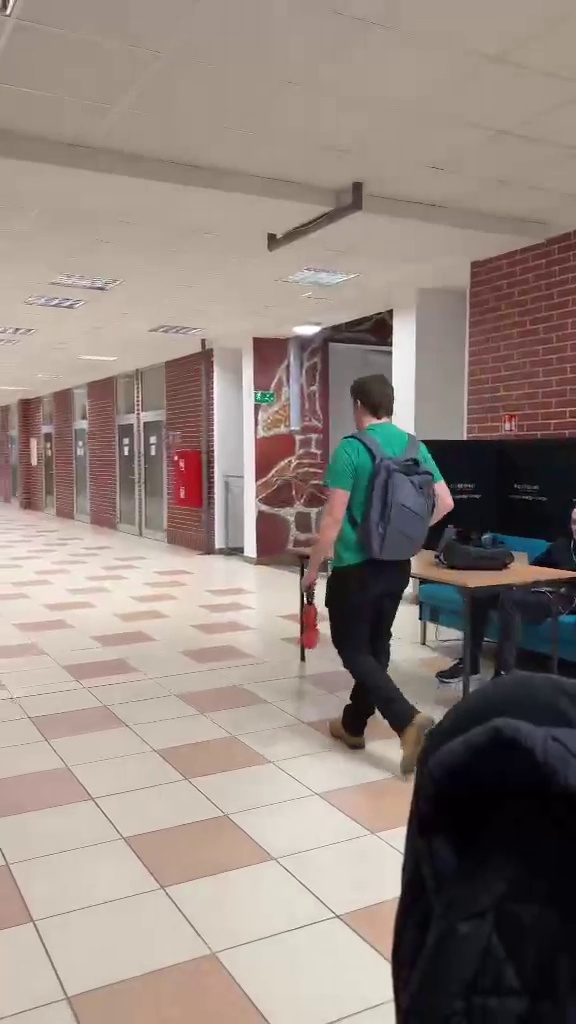no vest: (293, 374, 457, 777)
